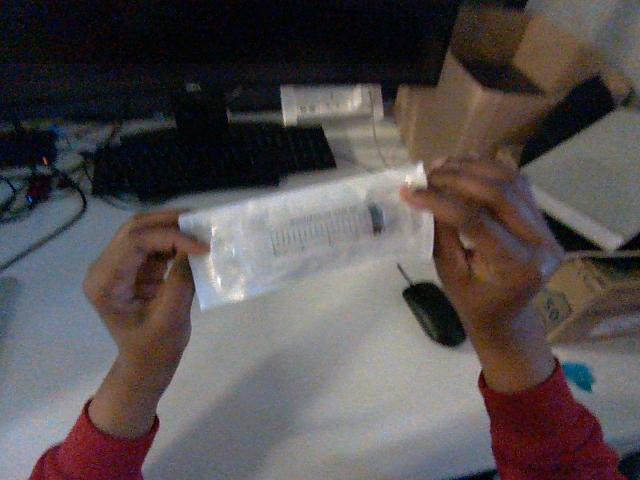syringe: (179, 164, 432, 309)
